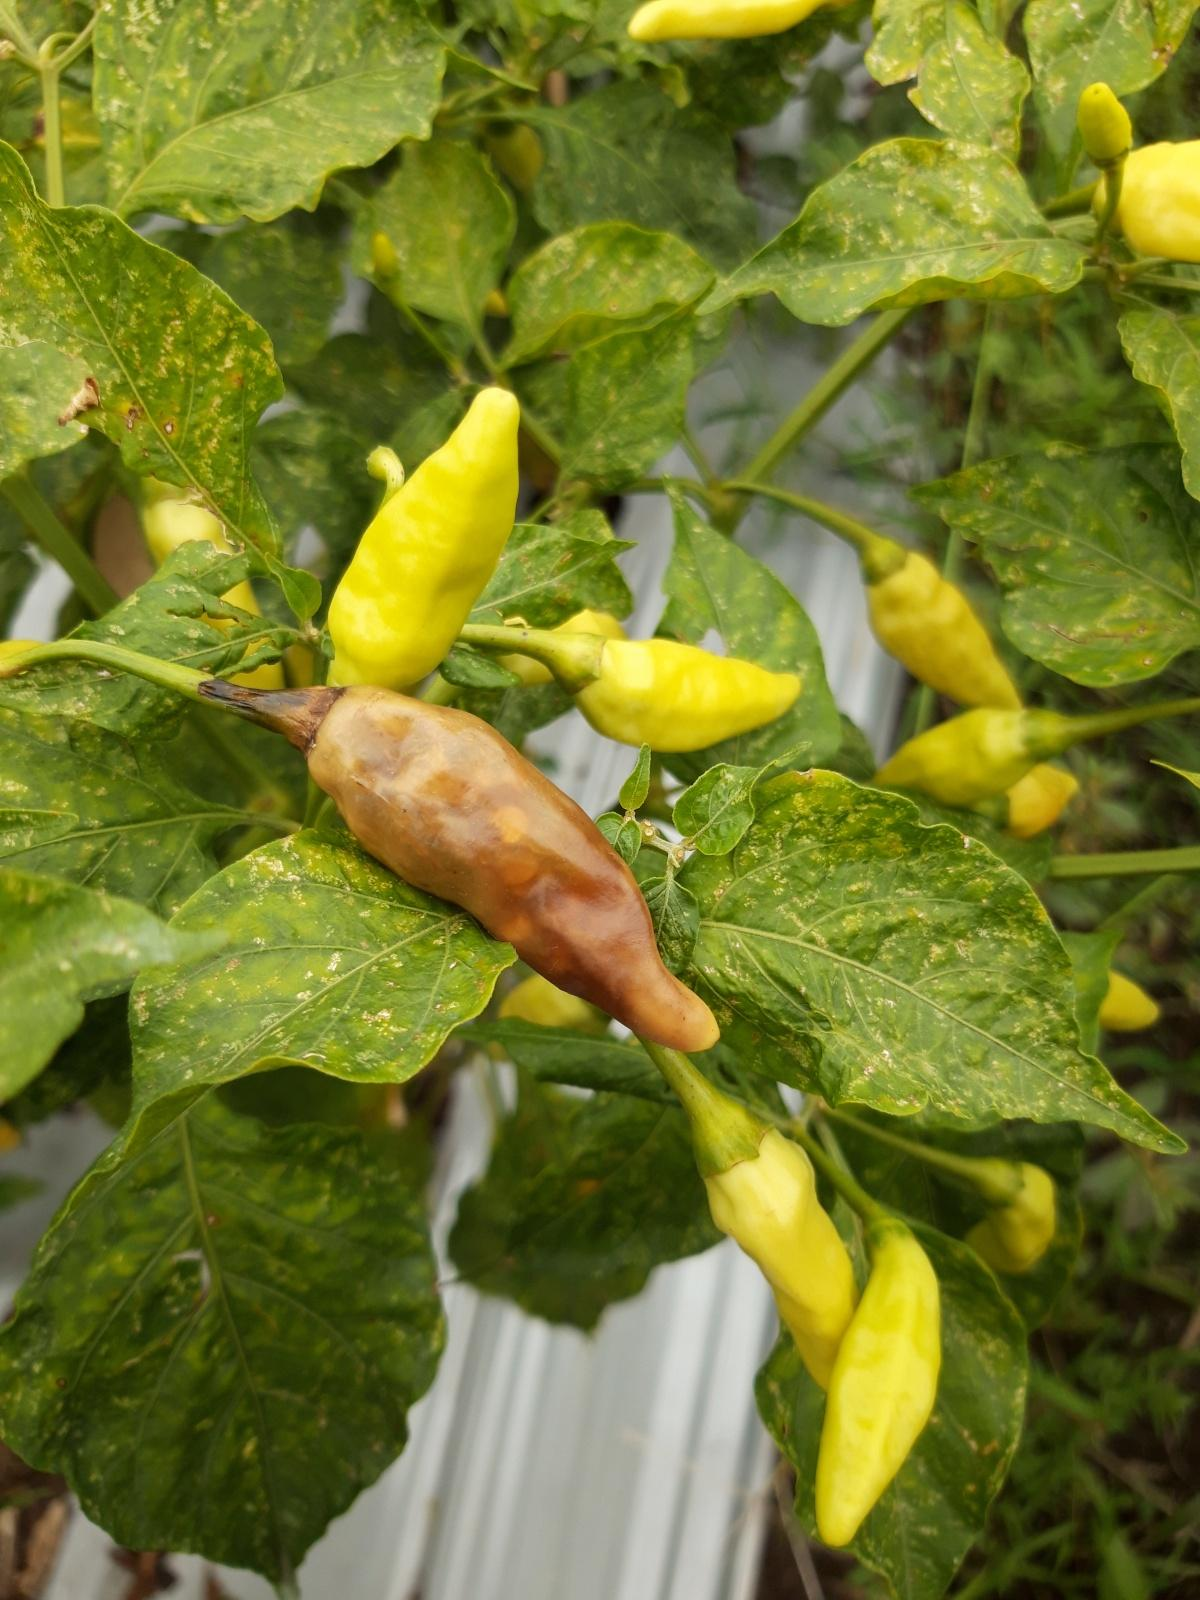cabai_normal: (324, 386, 527, 684), (807, 1232, 945, 1547), (693, 1123, 855, 1388), (562, 627, 800, 753), (852, 551, 1026, 711), (871, 704, 1053, 813), (962, 1159, 1056, 1279)
lalat_buah: (261, 682, 731, 1054)
